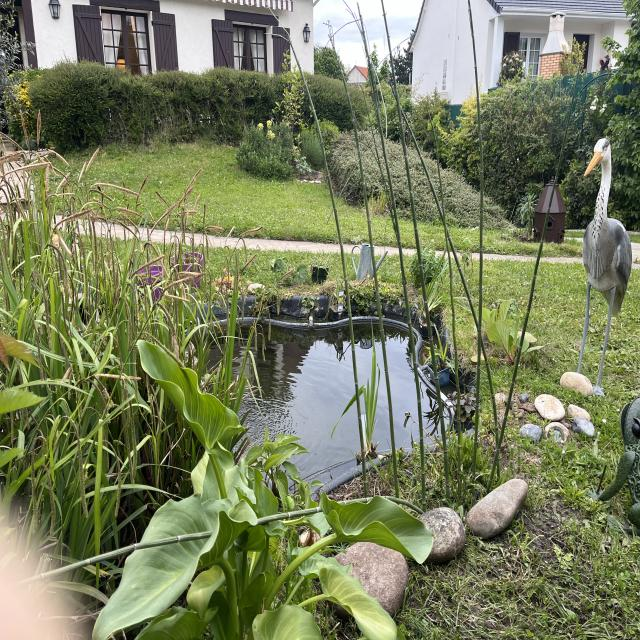Heron: (572, 123, 634, 411)
